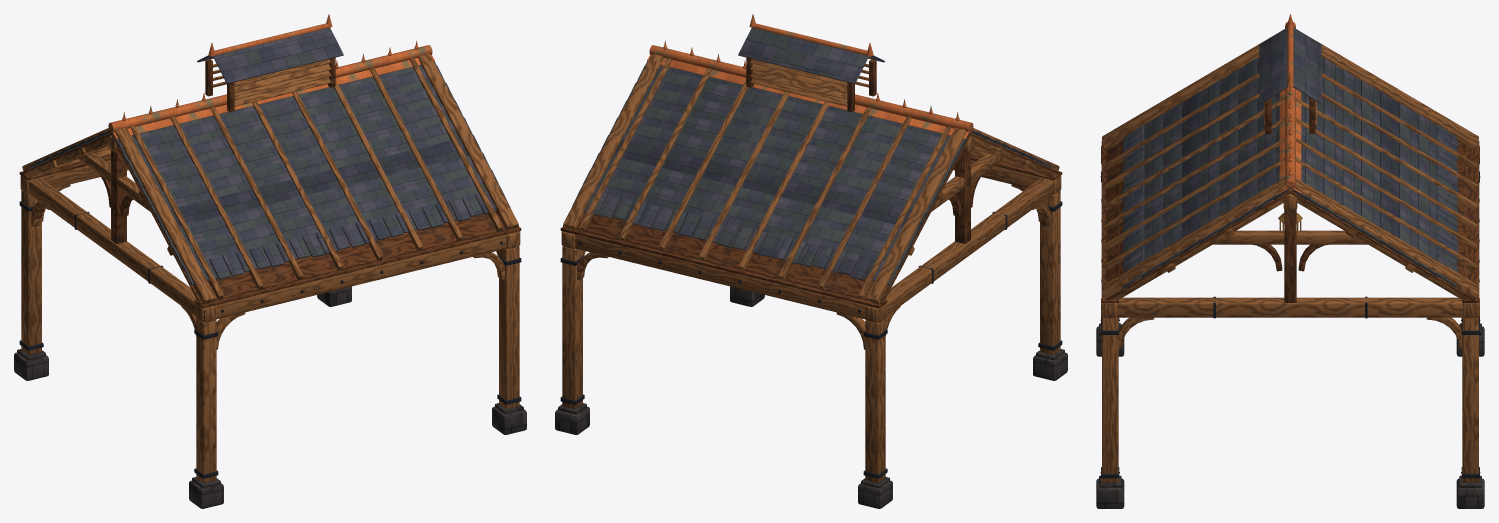
Rendered from hall_bay.glb.
3 views of the same model, side by side, from view 1: azimuth 30°, elevation 25°; view 2: azimuth 150°, elevation 25°; view 3: azimuth 270°, elevation 25° (orthographic). The views are drawn at different scales.
Parts seen in each view (by area): view 1: HallBay_Body; view 2: HallBay_Body; view 3: HallBay_Body.
Boxes of the visible parts, x1,y1,x2,y2 form: HallBay_Body: (14, 14, 526, 508); HallBay_Body: (555, 14, 1067, 508); HallBay_Body: (1096, 14, 1484, 508).
Size of the model in its own units: 6.14 by 6.71 by 6.14.
9 materials, 8 textured.
